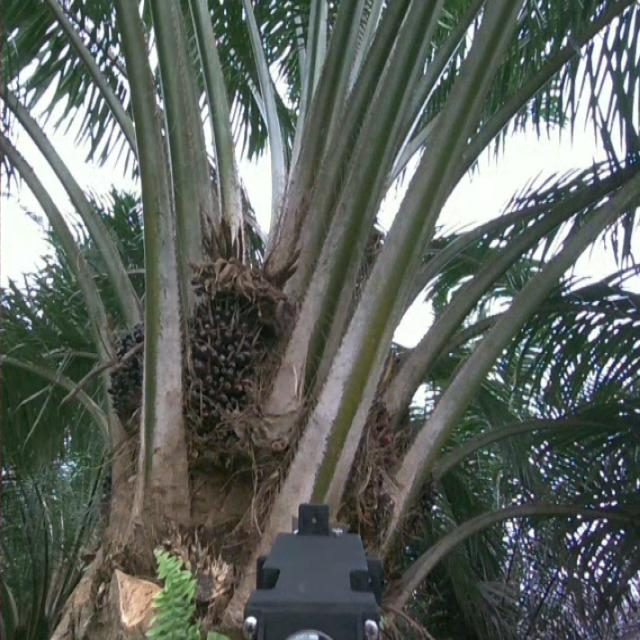palm-oil: (182, 266, 277, 462), (330, 407, 406, 544), (108, 308, 164, 457)
